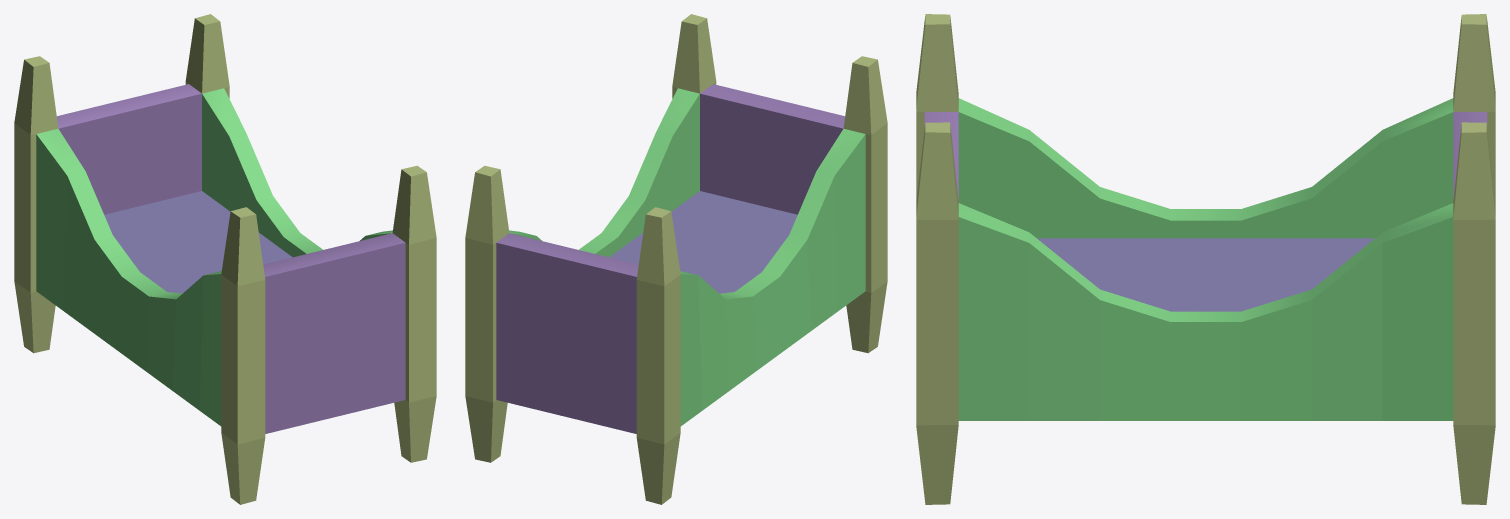
Rendered from Bed.fbx.
The picture shows the model from 3 angles, left to right: view 1: azimuth 30°, elevation 25°; view 2: azimuth 150°, elevation 25°; view 3: azimuth 270°, elevation 25°; orthographic projection. The views are drawn at different scales.
Parts seen in each view (by area): view 1: Bed; view 2: Bed; view 3: Bed.
Part boxes in pixels (bbox=[...]): Bed: bbox=[14, 14, 436, 504]; Bed: bbox=[465, 14, 887, 504]; Bed: bbox=[916, 14, 1495, 504].
Bounding box in the file's own units: 106 × 146 × 206.
